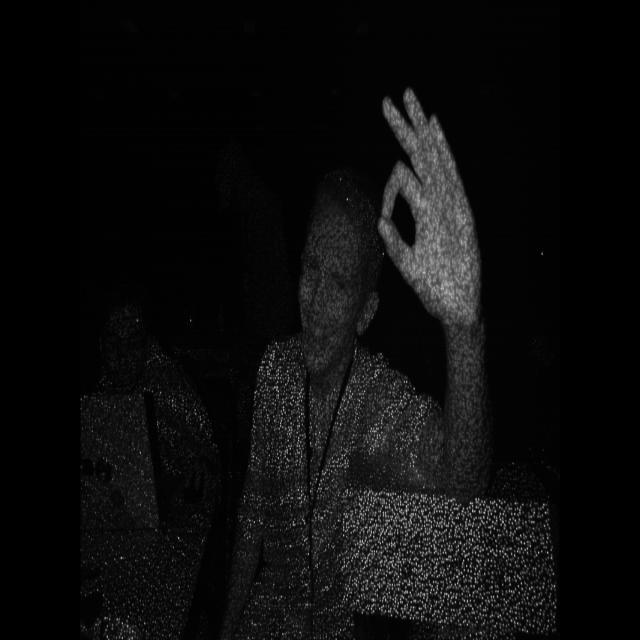F: (370, 69, 505, 338)
